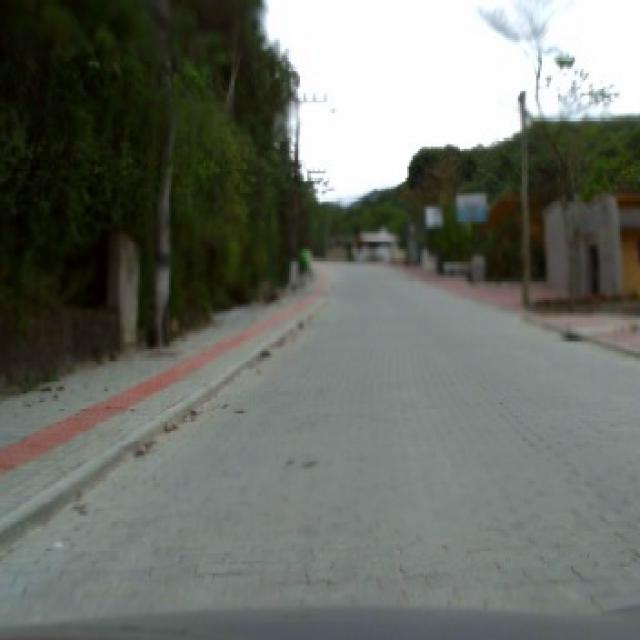Poth-hole: (566, 329, 586, 340)
